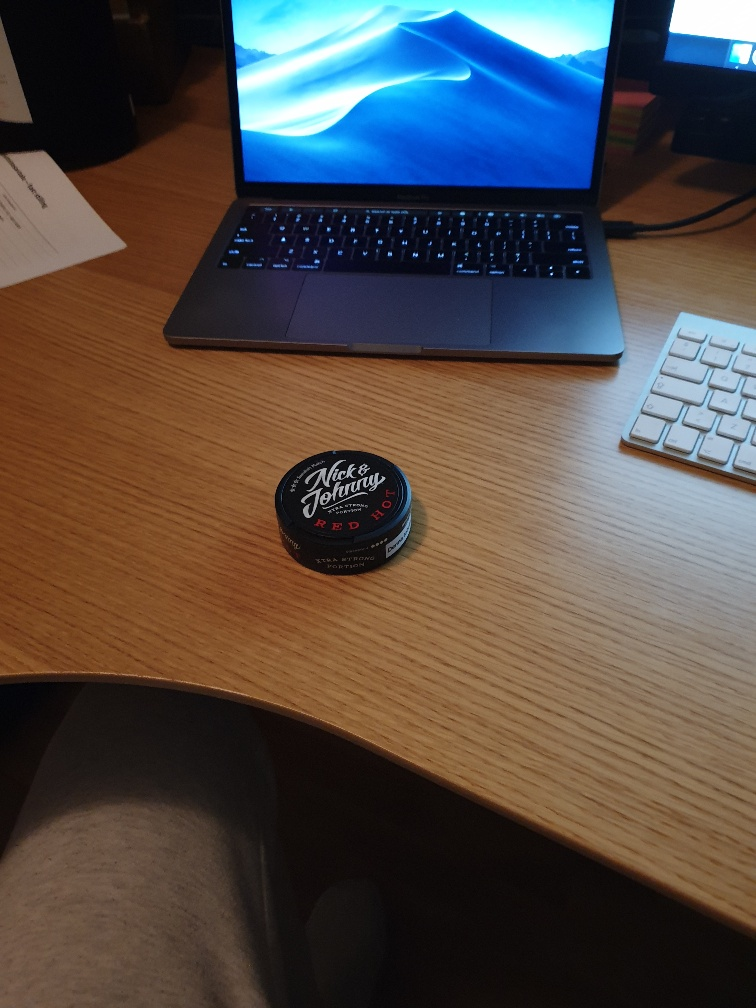snus: (263, 445, 422, 583)
